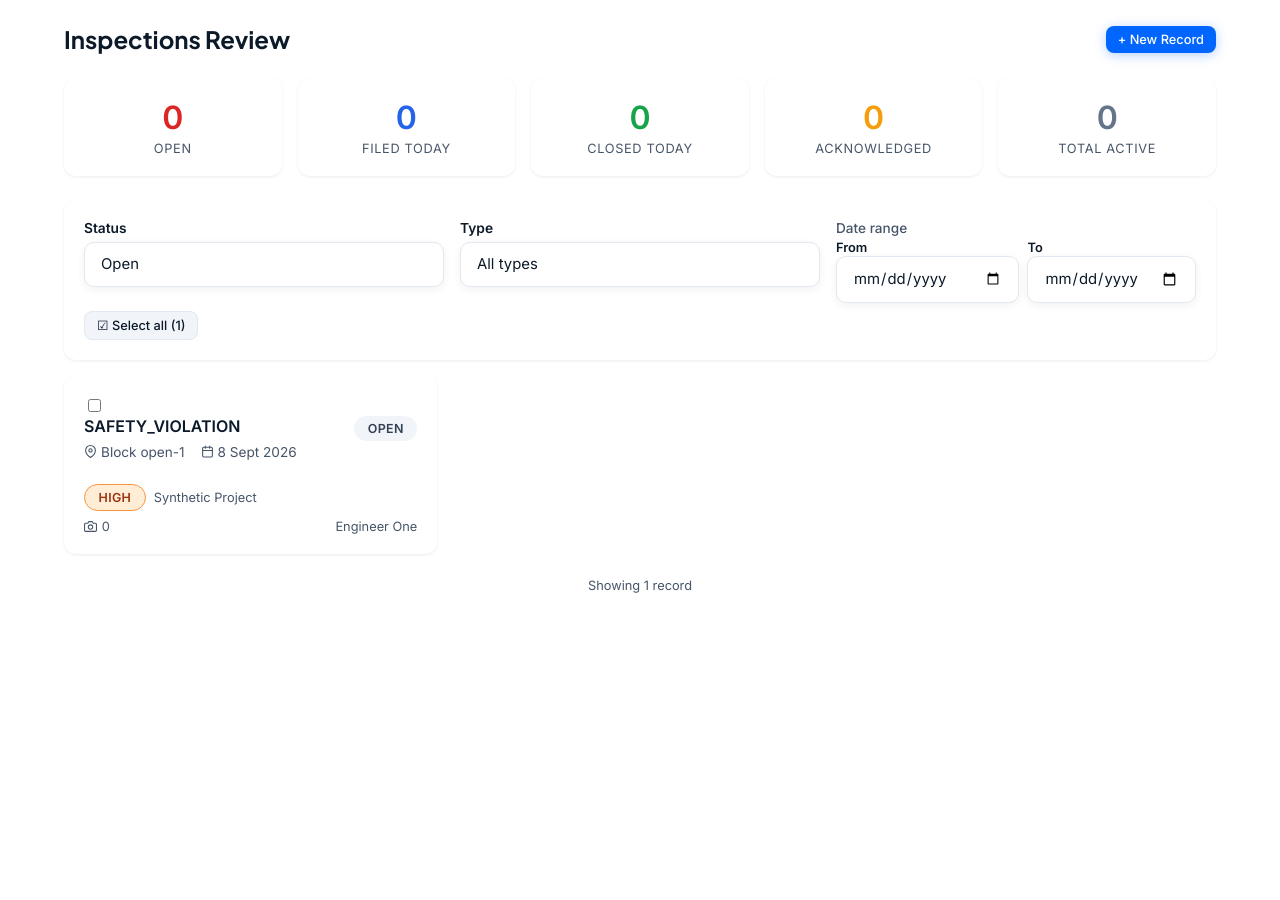
Test: DR-008 — InspectionDashboard real-mount coverage › 6. an OPEN row is selectable but its Close button stays DISABLED (OPEN must not close directly)
Click the checkbox named "Select Synthetic Project for bulk action".
click(94, 405)  # box [88,399,101,412]
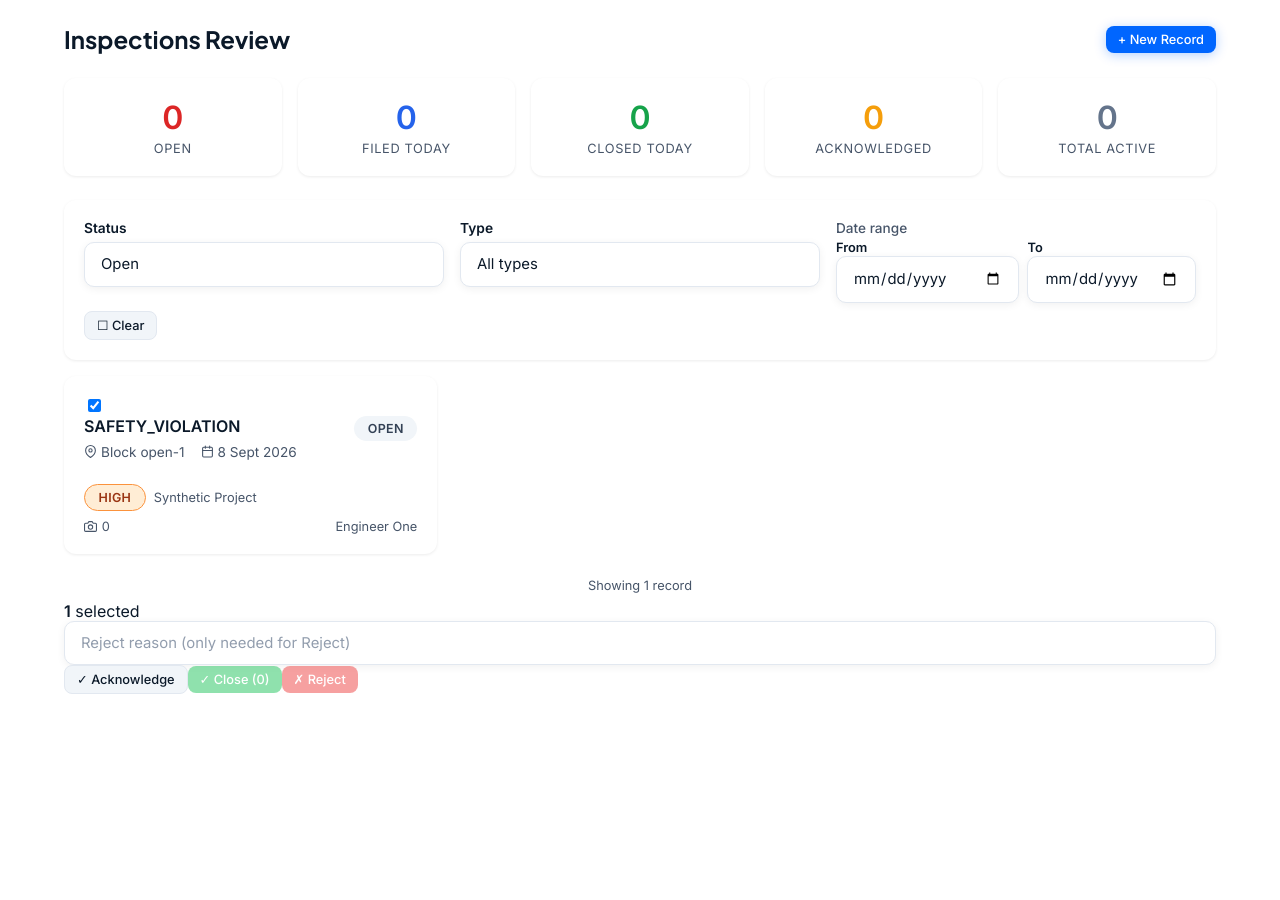
Result: the button "✓ Acknowledge" is enabled at [64,666,188,694]
Result: the button "✓ Close (0)" is disabled at [188,666,282,694]
